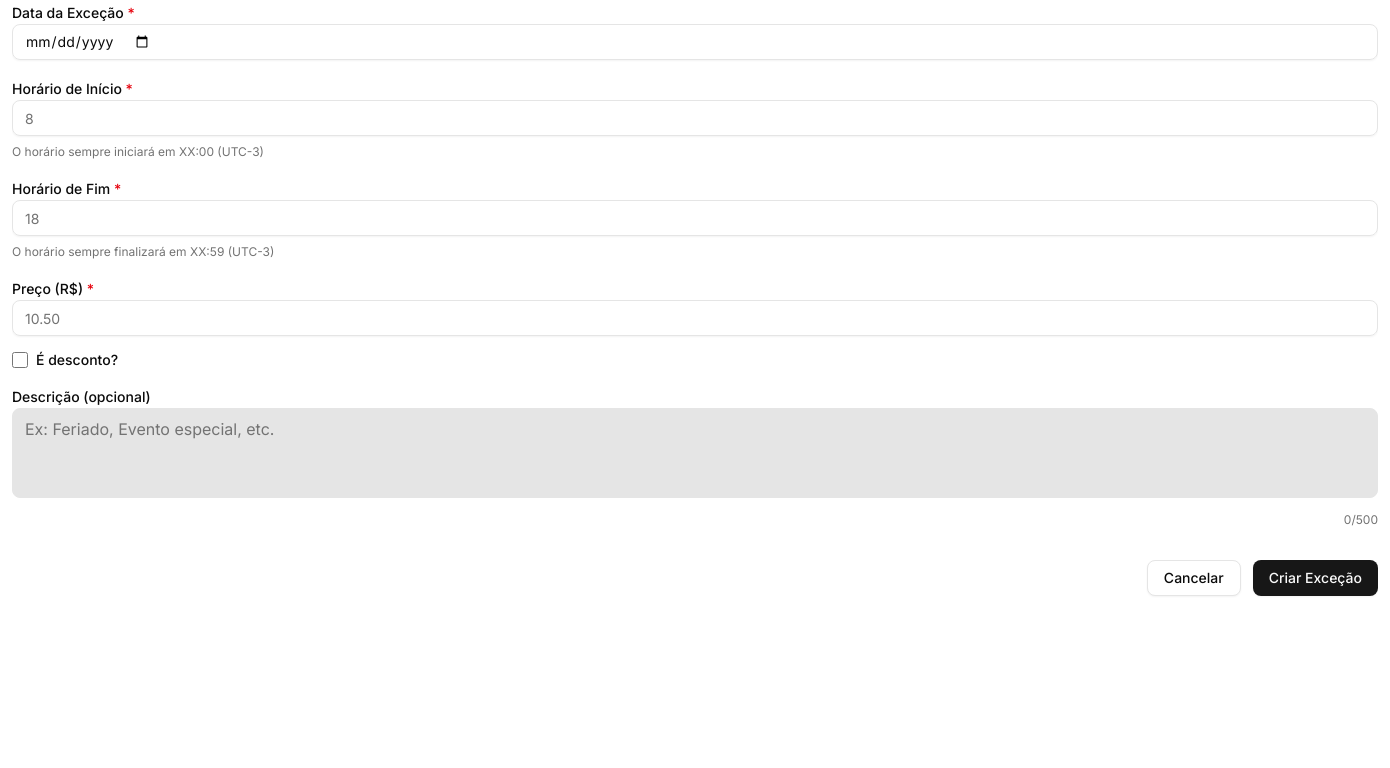
Scenario: priceExceptionForm › validation › should show validation error when start_hour is out of range
This screenshot has width=1390, height=768.
Type "2024-01-01" into the date field labelled "Data da Exceção *" at (695, 42), box [12,24,1378,60]
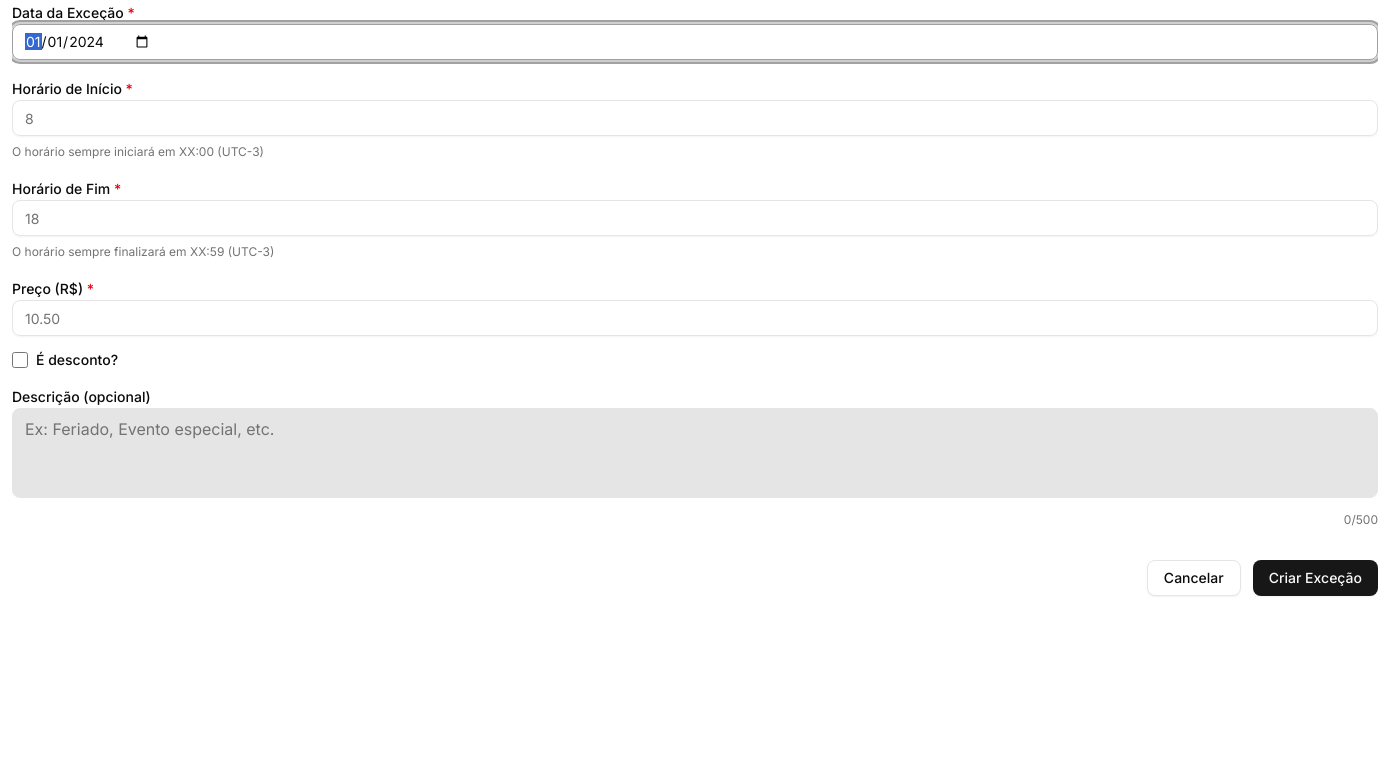
Type "25" into the number field labelled "Horário de Início *" at (695, 118), box [12,100,1378,136]
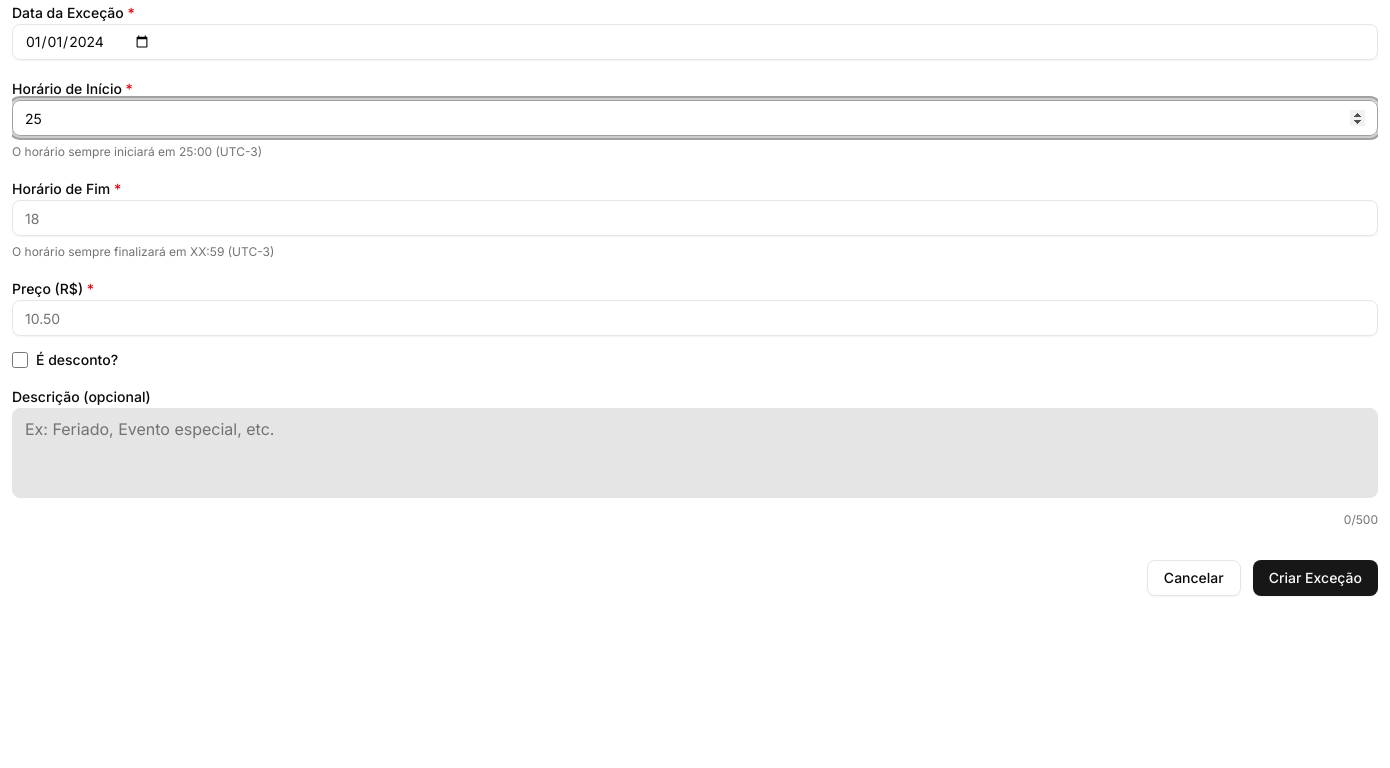
Click the button "Criar Exceção" at (1315, 578), box [1253,560,1378,596]
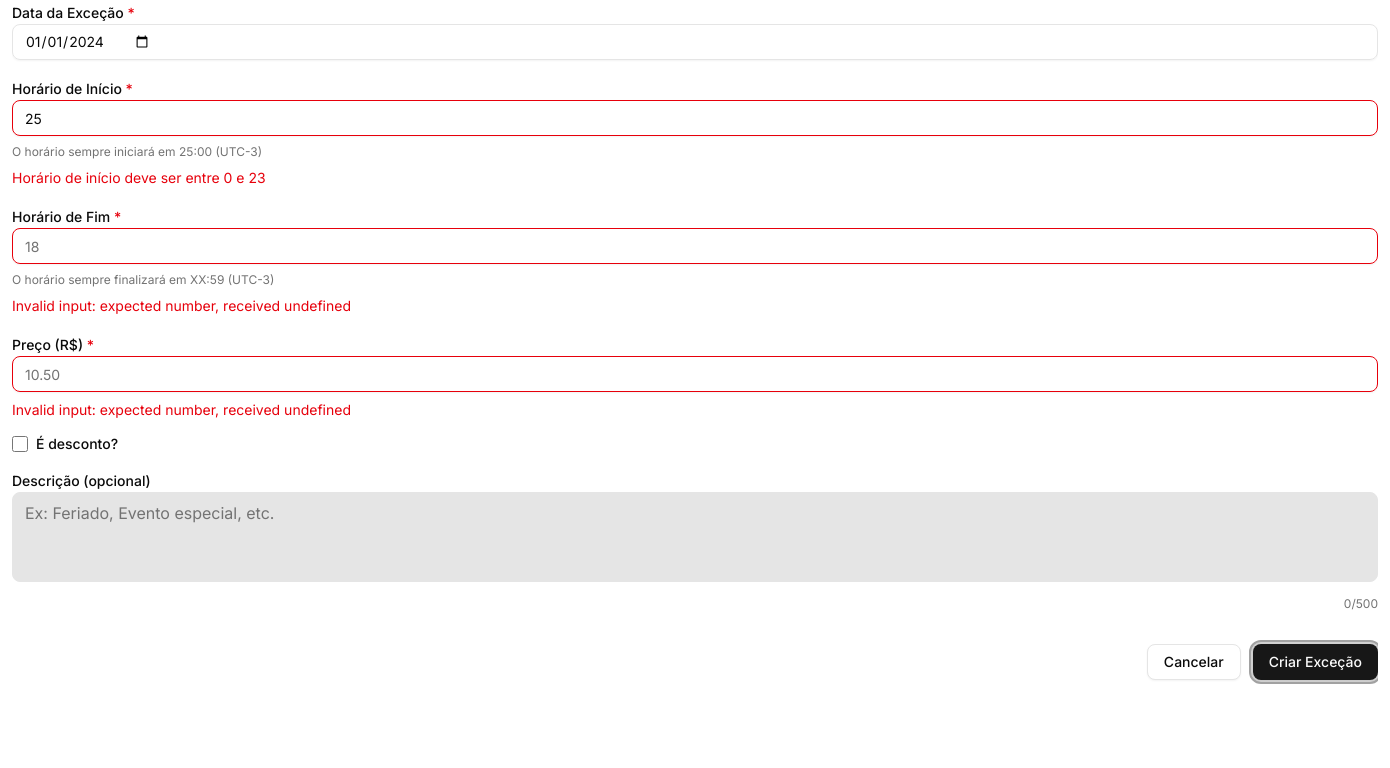
Expected: the text "Horário de início deve ser entre 0 e 23" is shown, [12,169,266,186]
